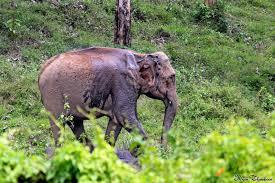elephant: (38, 47, 177, 142), (50, 119, 59, 145)
